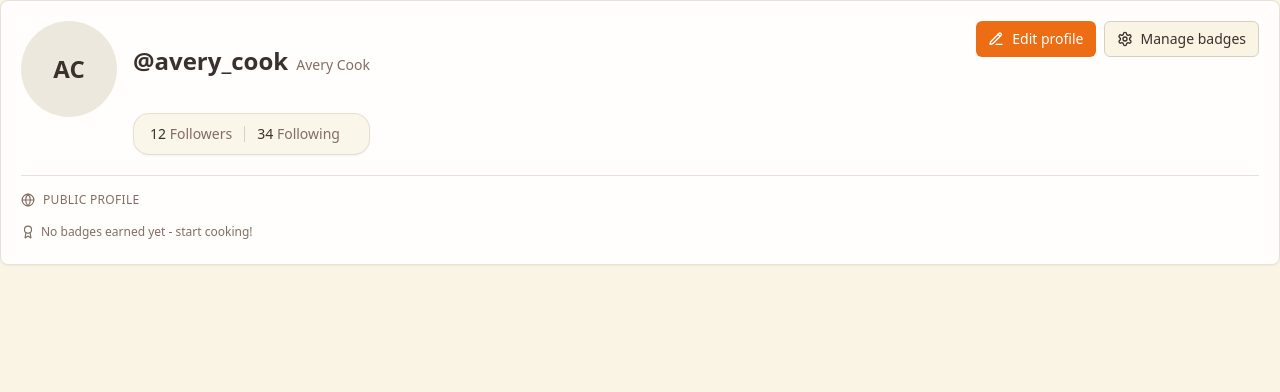
Test case: ProfileIdentityControls › restores draft values on cancel
The image size is (1280, 392).
Click the button "Edit profile".
click(1036, 39)  # box left=976, top=21, right=1096, bottom=57
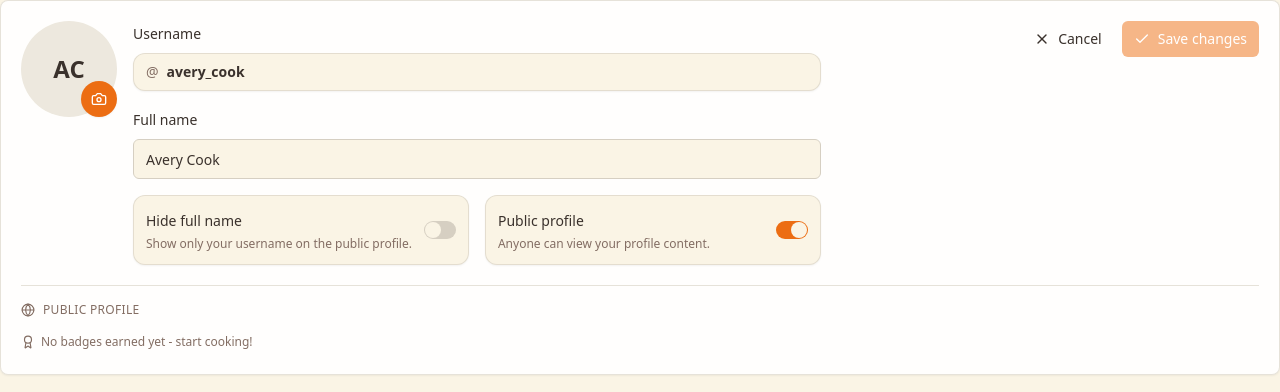
Replace the text in the field labelled "Full name" with "Changed Name" at (477, 159), box left=133, top=139, right=821, bottom=179
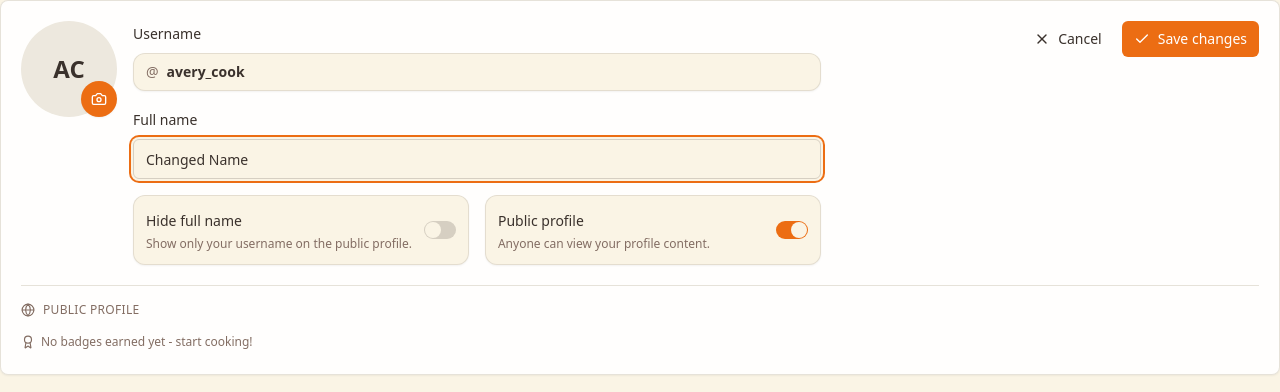
Click the button "Cancel".
click(1068, 39)  # box left=1022, top=21, right=1114, bottom=57
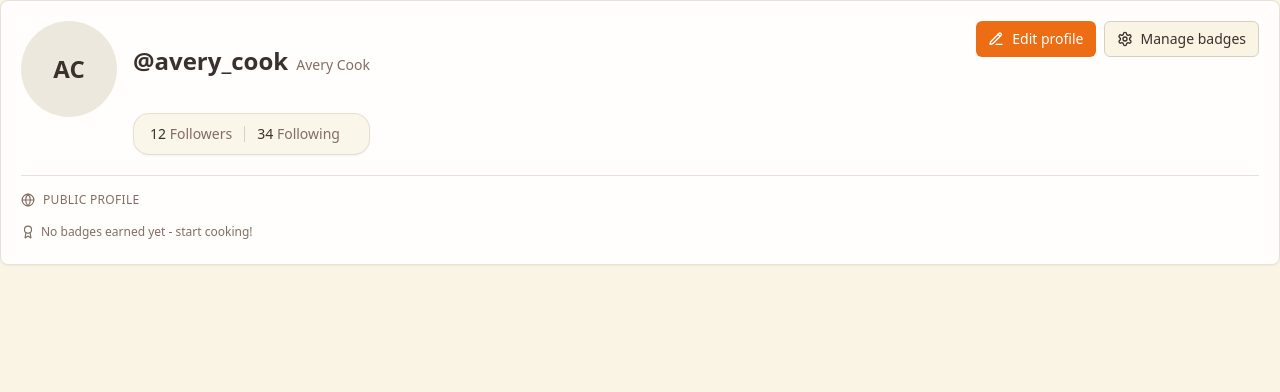
Click the button "Edit profile".
click(1036, 39)  # box left=976, top=21, right=1096, bottom=57
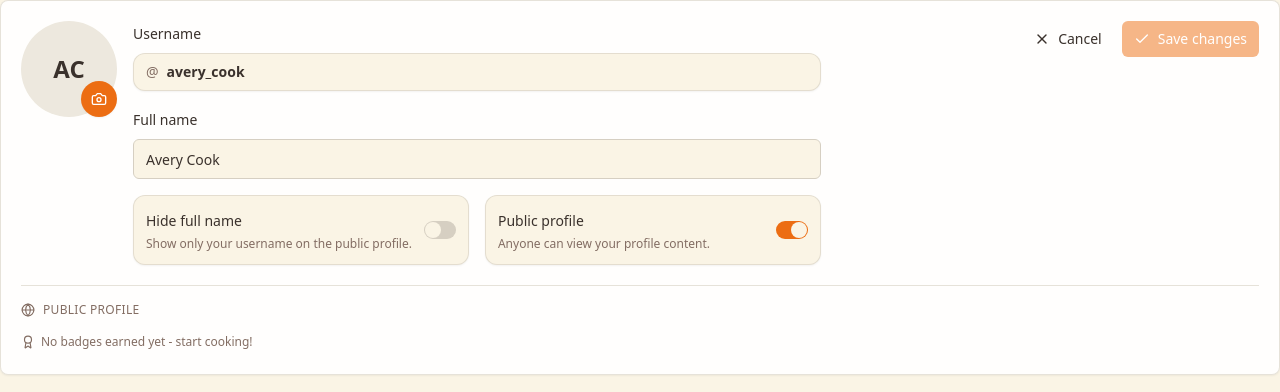
Expected: the field labelled "Full name" holds "Avery Cook", left=133, top=139, right=821, bottom=179
